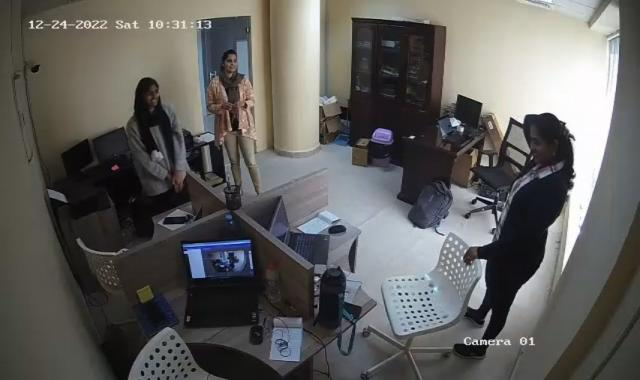no_hairnet: (524, 120, 553, 164), (134, 75, 164, 111), (222, 50, 238, 74), (537, 73, 538, 75)
